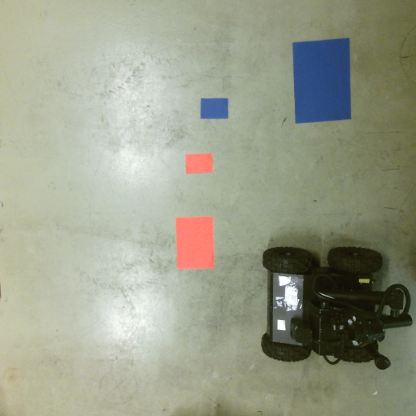Blue: (291, 38, 356, 124), (200, 96, 230, 120)
Jaguar: (262, 245, 416, 372)
Red: (173, 215, 216, 272), (183, 153, 214, 176)
